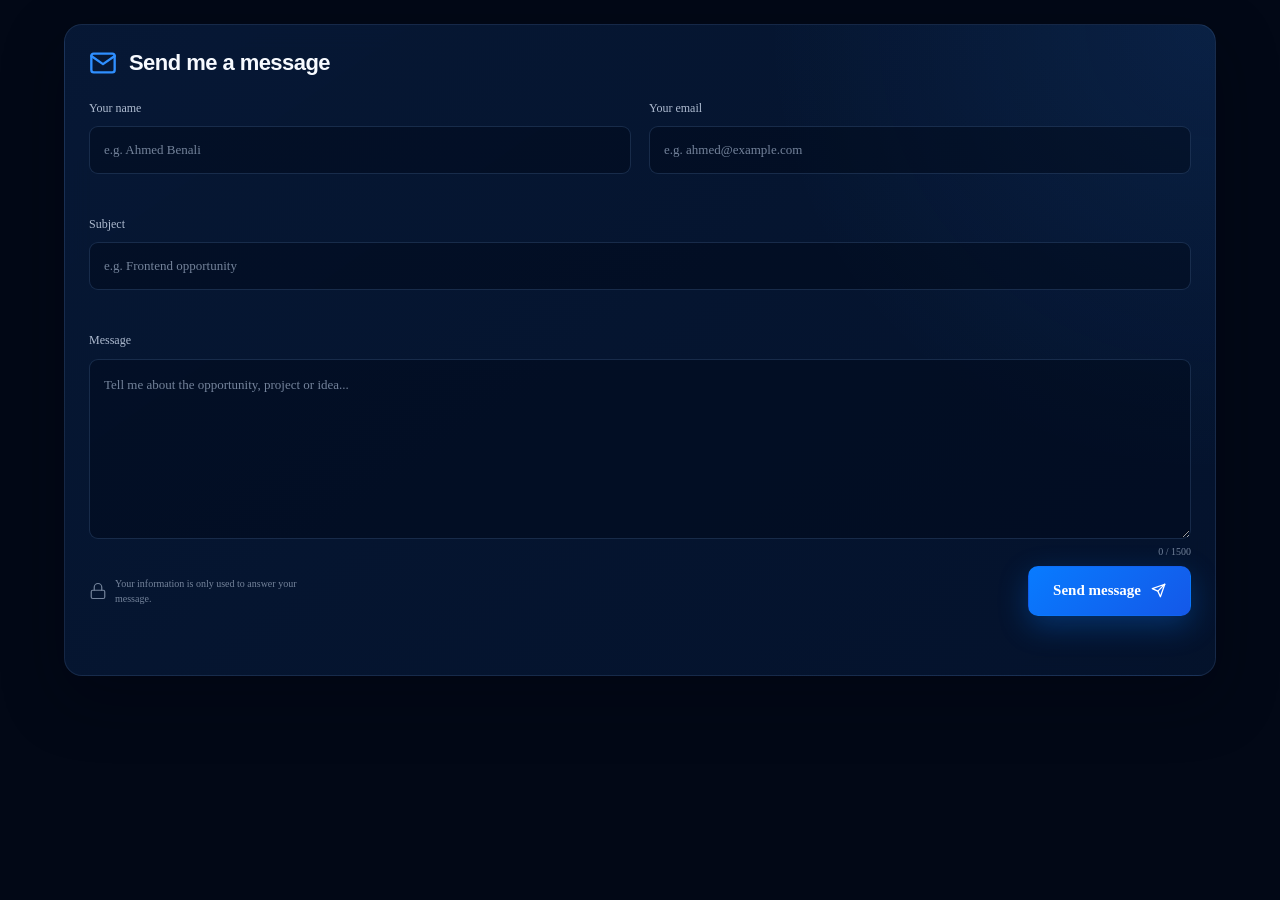
Test case: ContactForm › announces validation errors and focuses the first invalid field
Click the button "Send message" at (1110, 591), box [1028,566,1191,616]
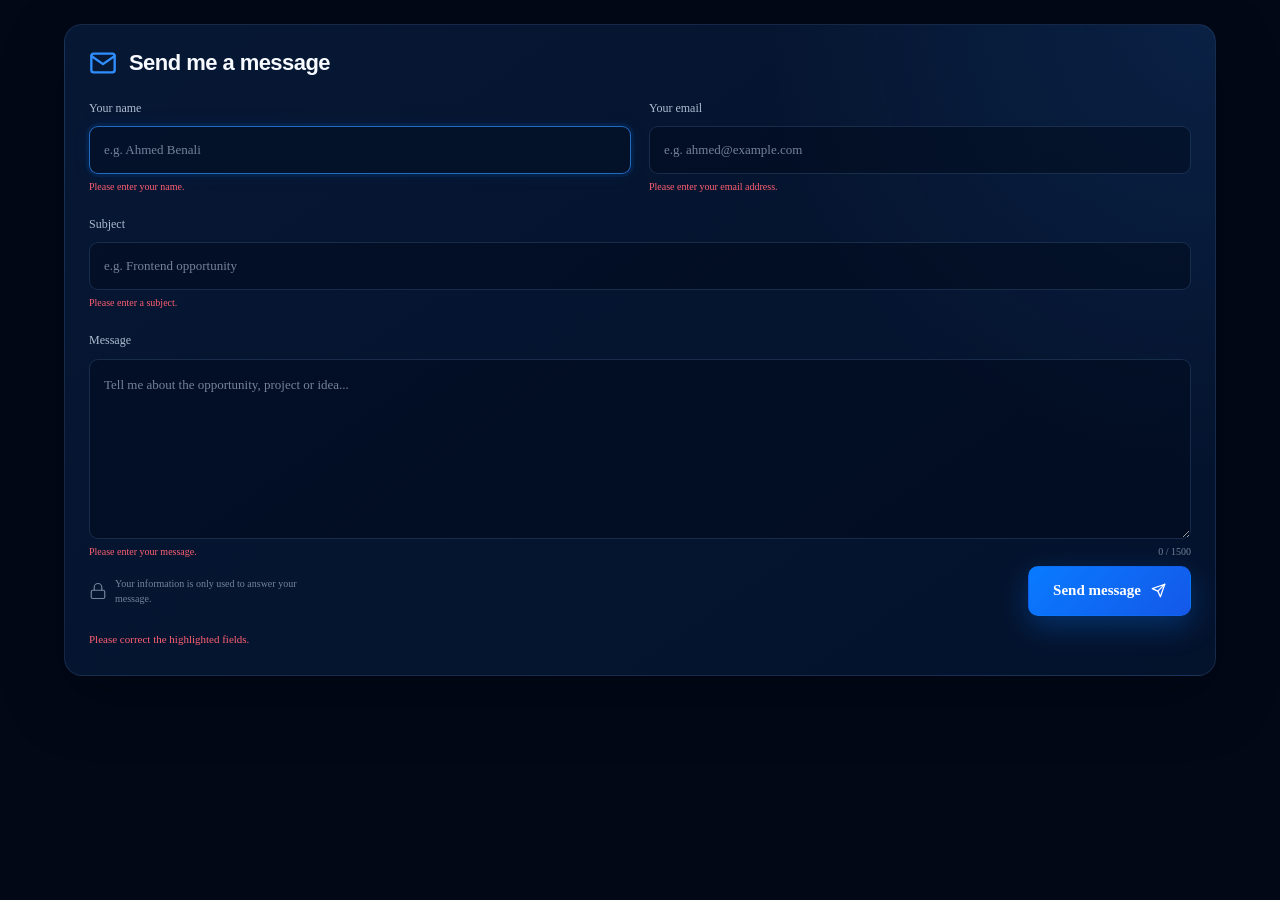
Expected: the message reads "Please correct the highlighted fields.", [89,633,249,645]
Expected: the text "Please enter your name." is shown, [89,181,184,192]
